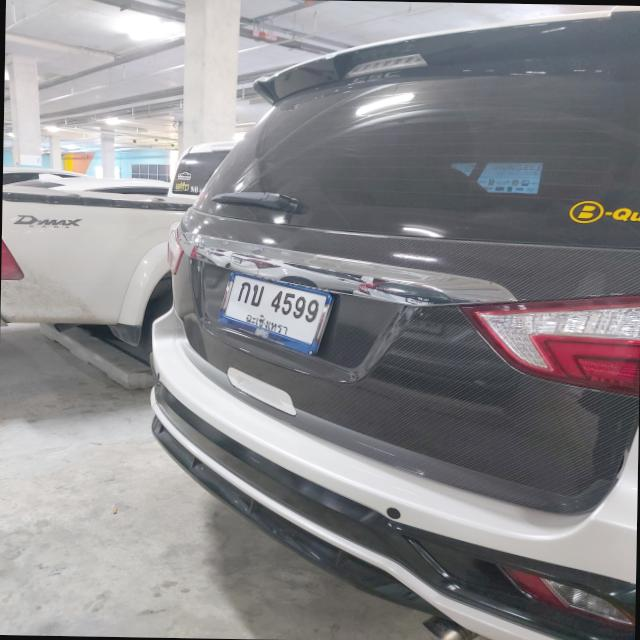license_plate: (222, 274, 328, 344)
